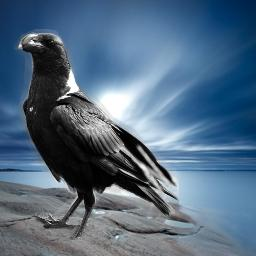Crow: (13, 29, 179, 240)
